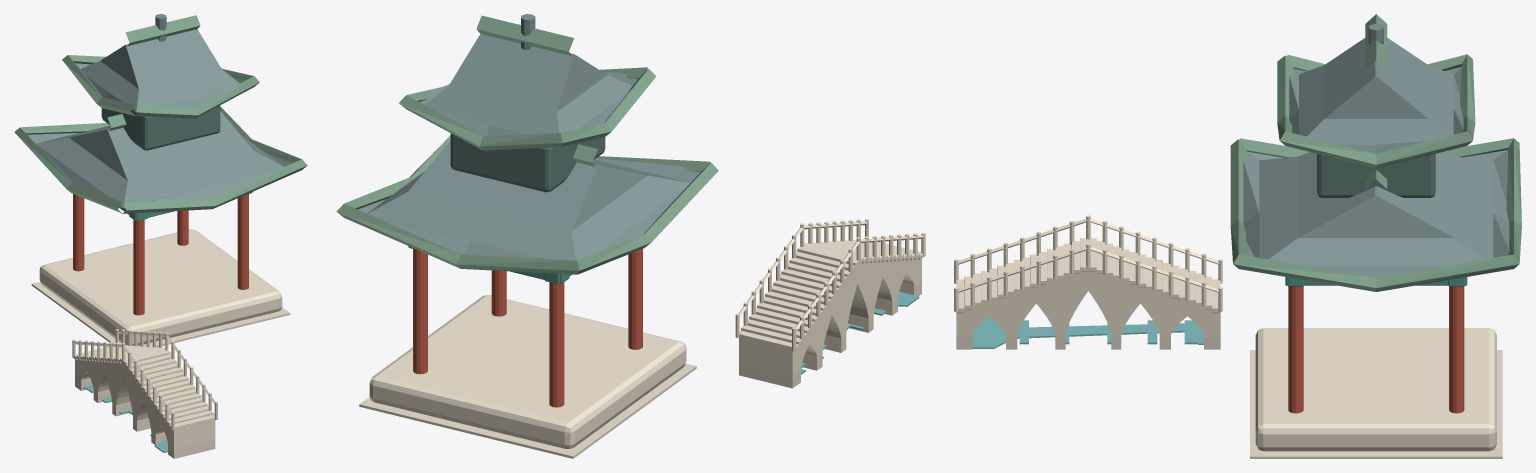
3 views of the same model, side by side, from view 1: azimuth 30°, elevation 25°; view 2: azimuth 150°, elevation 25°; view 3: azimuth 270°, elevation 25° (orthographic). The views are drawn at different scales.
Visible parts, largest first — view 1: YY_YUYUANTING_own_stone_base, YY_YUYUANTING_lower_fourcorner_eave, YY_YUYUANTING_upper_fourcorner_eave, YY_YUYUANTING_lower_fourcorner_eave-eave, YY_CENTRALBRIDGE_five_arch_spandrel, YY_YUYUANTING_upper_window_drum, YY_YUYUANTING_upper_fourcorner_eave-eave, MAP_YY_support_pavilion, YY_YUYUANTING_column_-1_-1, YY_YUYUANTING_column_1_-1, YY_YUYUANTING_upper_fourcorner_eave-ridge, YY_YUYUANTING_column_-1_1 (+4 smaller); view 2: YY_YUYUANTING_own_stone_base, YY_YUYUANTING_lower_fourcorner_eave, YY_YUYUANTING_upper_fourcorner_eave, YY_YUYUANTING_lower_fourcorner_eave-eave, YY_CENTRALBRIDGE_five_arch_spandrel, YY_YUYUANTING_upper_window_drum, YY_YUYUANTING_upper_fourcorner_eave-eave, MAP_YY_support_pavilion, YY_YUYUANTING_column_-1_1, YY_YUYUANTING_column_1_1, YY_YUYUANTING_upper_fourcorner_eave-ridge, YY_YUYUANTING_column_-1_-1 (+2 smaller); view 3: YY_YUYUANTING_own_stone_base, YY_YUYUANTING_lower_fourcorner_eave, YY_YUYUANTING_upper_fourcorner_eave, YY_YUYUANTING_lower_fourcorner_eave-eave, YY_CENTRALBRIDGE_five_arch_spandrel, YY_YUYUANTING_upper_fourcorner_eave-eave, YY_YUYUANTING_upper_window_drum, MAP_YY_support_pavilion, YY_CENTRALBRIDGE_local_water_channel, YY_YUYUANTING_column_1_-1, YY_YUYUANTING_column_1_1, YY_CENTRALBRIDGE_rail_1 (+2 smaller).
Boxes of the visible parts, x1,y1,x2,y2 form: YY_YUYUANTING_own_stone_base: [39, 229, 282, 345]; YY_YUYUANTING_lower_fourcorner_eave: [27, 111, 291, 208]; YY_YUYUANTING_upper_fourcorner_eave: [75, 29, 242, 112]; YY_YUYUANTING_lower_fourcorner_eave-eave: [14, 106, 307, 213]; YY_CENTRALBRIDGE_five_arch_spandrel: [75, 359, 215, 449]; YY_YUYUANTING_upper_window_drum: [101, 105, 220, 150]; YY_YUYUANTING_upper_fourcorner_eave-eave: [62, 55, 259, 118]; MAP_YY_support_pavilion: [31, 282, 290, 347]; YY_YUYUANTING_column_-1_-1: [133, 219, 144, 315]; YY_YUYUANTING_column_1_-1: [237, 194, 248, 289]; YY_YUYUANTING_upper_fourcorner_eave-ridge: [125, 15, 200, 46]; YY_YUYUANTING_column_-1_1: [73, 194, 84, 271]; YY_YUYUANTING_own_stone_base: [369, 295, 686, 448]; YY_YUYUANTING_lower_fourcorner_eave: [358, 140, 699, 260]; YY_YUYUANTING_upper_fourcorner_eave: [420, 34, 637, 136]; YY_YUYUANTING_lower_fourcorner_eave-eave: [336, 135, 718, 274]; YY_CENTRALBRIDGE_five_arch_spandrel: [739, 259, 921, 376]; YY_YUYUANTING_upper_window_drum: [450, 133, 605, 192]; YY_YUYUANTING_upper_fourcorner_eave-eave: [399, 67, 656, 150]; MAP_YY_support_pavilion: [359, 363, 696, 458]; YY_YUYUANTING_column_-1_1: [549, 282, 564, 407]; YY_YUYUANTING_column_1_1: [413, 249, 427, 374]; YY_YUYUANTING_upper_fourcorner_eave-ridge: [476, 15, 574, 56]; YY_YUYUANTING_column_-1_-1: [628, 249, 642, 349]; YY_YUYUANTING_own_stone_base: [1255, 328, 1496, 451]; YY_YUYUANTING_lower_fourcorner_eave: [1243, 150, 1509, 277]; YY_YUYUANTING_upper_fourcorner_eave: [1289, 38, 1463, 154]; YY_YUYUANTING_lower_fourcorner_eave-eave: [1230, 138, 1521, 291]; YY_CENTRALBRIDGE_five_arch_spandrel: [956, 271, 1220, 336]; YY_YUYUANTING_upper_fourcorner_eave-eave: [1277, 54, 1475, 168]; YY_YUYUANTING_upper_window_drum: [1317, 154, 1435, 197]; MAP_YY_support_pavilion: [1250, 350, 1502, 458]; YY_CENTRALBRIDGE_local_water_channel: [972, 316, 1203, 348]; YY_YUYUANTING_column_1_-1: [1288, 286, 1303, 413]; YY_YUYUANTING_column_1_1: [1449, 286, 1464, 413]; YY_CENTRALBRIDGE_rail_1: [957, 247, 1219, 292].
Size of the model in its own units: 1.77 by 2.03 by 2.68.
